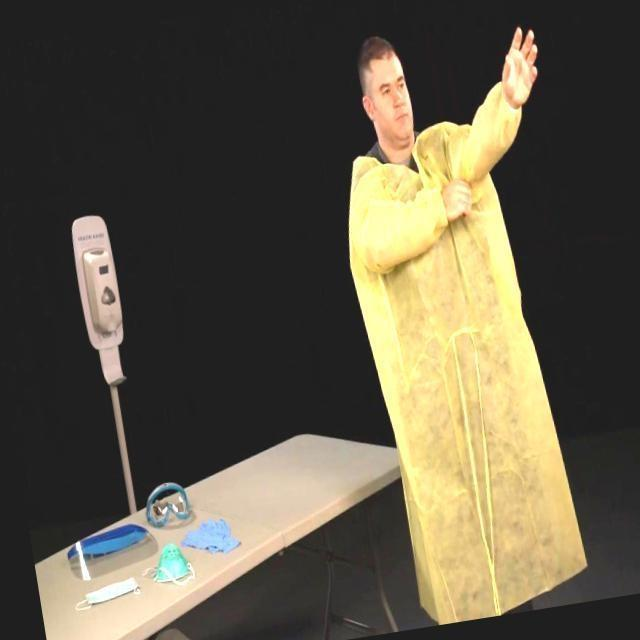no_apron: (483, 24, 553, 109), (448, 182, 478, 217)
no_hairnet: (383, 93, 412, 137)
